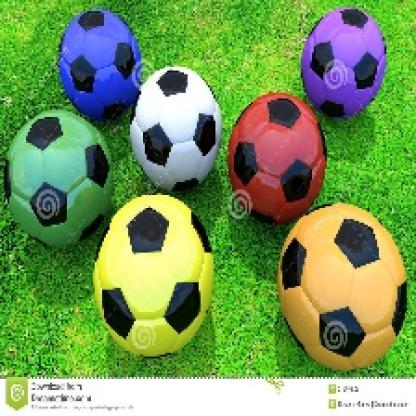ball: (75, 191, 232, 367), (273, 200, 407, 374), (10, 103, 113, 247), (232, 90, 324, 220), (130, 66, 222, 189), (54, 0, 140, 123), (302, 9, 392, 112)
